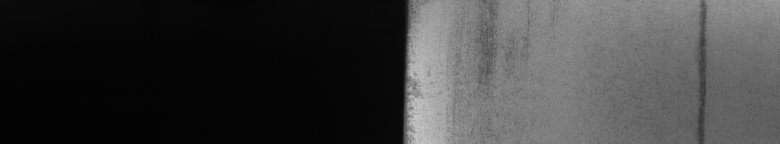hd: (696, 4, 708, 136)
